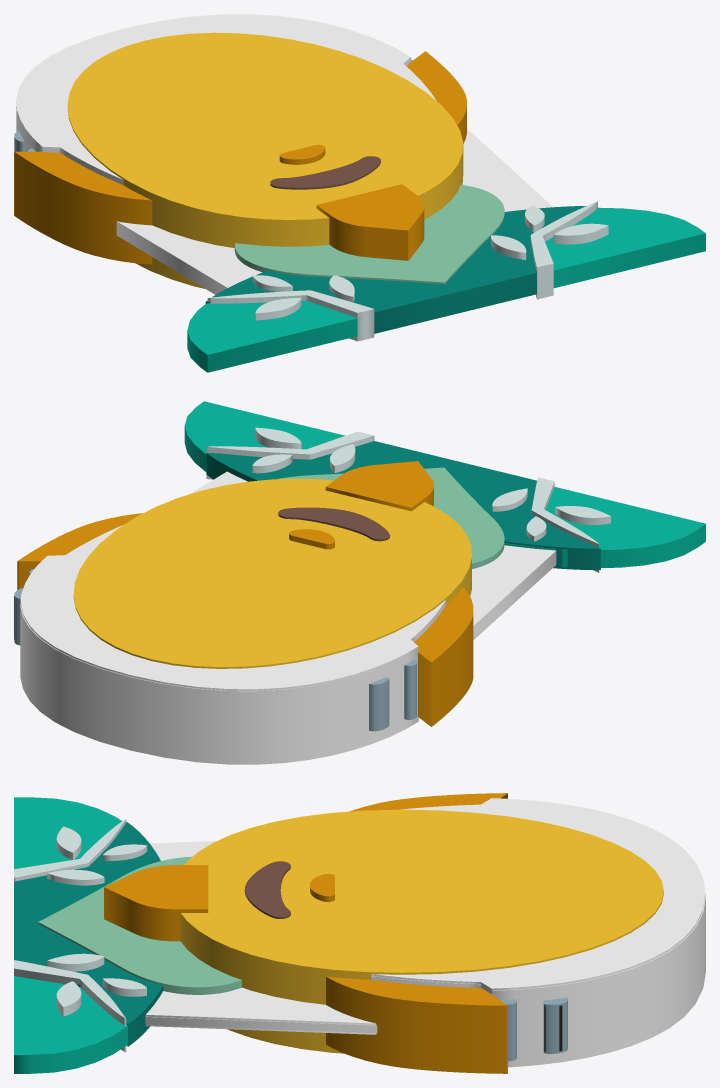
Rendered from emoji_u1f9dd_200d_2642.glb.
3 renders of one model, top to bottom at view 1: azimuth 30°, elevation 25°; view 2: azimuth 150°, elevation 25°; view 3: azimuth 270°, elevation 25°, orthographic. The views are drawn at different scales.
Visible parts, largest first — view 1: emoji_u1f9dd_200d_2642; view 2: emoji_u1f9dd_200d_2642; view 3: emoji_u1f9dd_200d_2642.
Part boxes in pixels (box(x1,y1,x2,y2)): emoji_u1f9dd_200d_2642: box(14, 14, 705, 372); emoji_u1f9dd_200d_2642: box(14, 401, 705, 764); emoji_u1f9dd_200d_2642: box(14, 793, 705, 1073).
Bounding box in the file's own units: 0.0292 × 0.005 × 0.0332.
